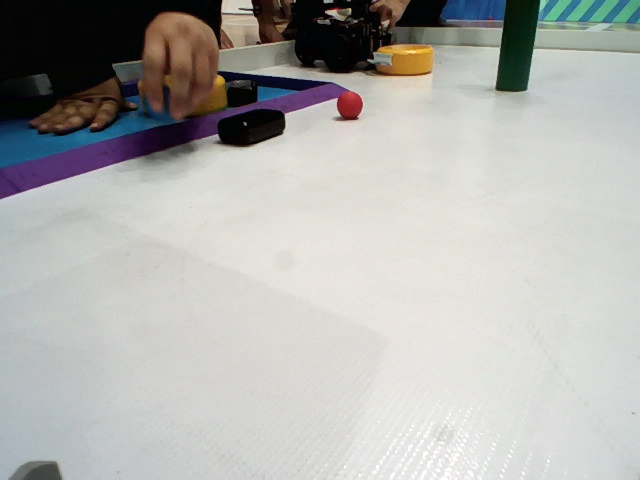black: (214, 106, 302, 161), (223, 66, 259, 110)
kuang: (1, 67, 353, 210)
red: (335, 89, 367, 121)
yellow: (129, 73, 237, 116), (367, 34, 449, 78)
zhuzi: (490, 1, 542, 97)
